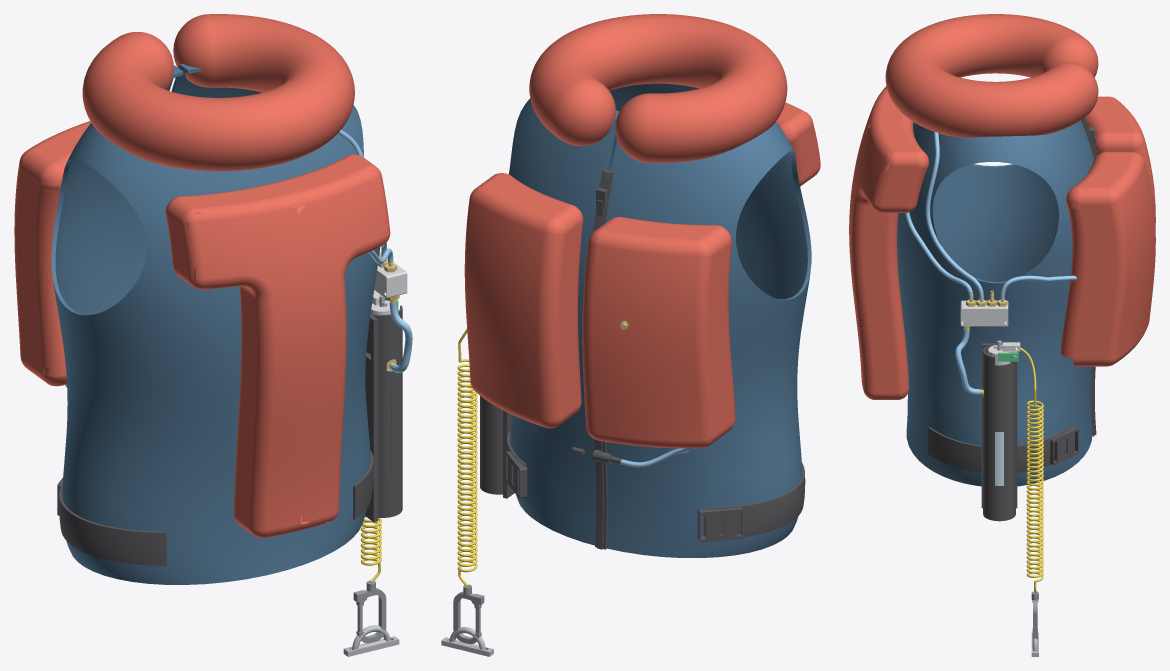
The model's file is KAVACH.glb.
3 renders of one model, left to right at view 1: azimuth 30°, elevation 25°; view 2: azimuth 150°, elevation 25°; view 3: azimuth 270°, elevation 25°, orthographic. The views are drawn at different scales.
Visible parts, largest first — view 1: KV-401_vest_carrier_shell-1, KV-405_bladder_spine_T-1, KV-402_bladder_neck_collar-1, KV-404_bladder_chest_L-1, KV-410_cartridge_holster-1, KV-408_side_strap_L-1, KV-502_snap_hook_QR-1, KV-501_lanyard_coiled-1, KV-201_manifold_block-1, KV-503_bike_D_ring_anchor-1, KV-407_side_strap_R-1, KV-301_hose_main_8x6_PU-1; view 2: KV-401_vest_carrier_shell-1, KV-404_bladder_chest_L-1, KV-402_bladder_neck_collar-1, KV-403_bladder_chest_R-1, KV-501_lanyard_coiled-1, KV-410_cartridge_holster-1, KV-408_side_strap_L-1, KV-405_bladder_spine_T-1, KV-406_zipper_YKK8-1, KV-409_side_release_buckle_R-2, KV-502_snap_hook_QR-1, KV-409_side_release_buckle_R-1 (+1 smaller); view 3: KV-401_vest_carrier_shell-1, KV-402_bladder_neck_collar-1, KV-403_bladder_chest_R-1, KV-405_bladder_spine_T-1, KV-410_cartridge_holster-1, KV-501_lanyard_coiled-1, KV-404_bladder_chest_L-1, KV-407_side_strap_R-1, KV-201_manifold_block-1, KV-305_hose_neck_6x4_PU-1, KV-409_side_release_buckle_R-1, KV-406_zipper_YKK8-1 (+4 smaller).
Part boxes in pixels (<box>): KV-401_vest_carrier_shell-1: <box>51,63,379,584</box>; KV-405_bladder_spine_T-1: <box>165,154,390,538</box>; KV-402_bladder_neck_collar-1: <box>82,14,354,171</box>; KV-404_bladder_chest_L-1: <box>14,121,91,386</box>; KV-410_cartridge_holster-1: <box>365,305,402,521</box>; KV-408_side_strap_L-1: <box>59,484,166,565</box>; KV-502_snap_hook_QR-1: <box>353,580,386,643</box>; KV-501_lanyard_coiled-1: <box>360,516,381,582</box>; KV-201_manifold_block-1: <box>374,252,407,298</box>; KV-503_bike_D_ring_anchor-1: <box>343,625,399,656</box>; KV-407_side_strap_R-1: <box>353,450,373,519</box>; KV-301_hose_main_8x6_PU-1: <box>389,302,412,372</box>; KV-401_vest_carrier_shell-1: <box>509,83,811,557</box>; KV-404_bladder_chest_L-1: <box>582,216,735,448</box>; KV-402_bladder_neck_collar-1: <box>529,14,787,163</box>; KV-403_bladder_chest_R-1: <box>464,173,583,428</box>; KV-501_lanyard_coiled-1: <box>457,329,477,586</box>; KV-410_cartridge_holster-1: <box>480,396,514,498</box>; KV-408_side_strap_L-1: <box>703,463,805,537</box>; KV-405_bladder_spine_T-1: <box>776,102,820,186</box>; KV-406_zipper_YKK8-1: <box>593,169,613,549</box>; KV-409_side_release_buckle_R-2: <box>697,507,743,542</box>; KV-502_snap_hook_QR-1: <box>453,584,484,644</box>; KV-409_side_release_buckle_R-1: <box>505,451,527,498</box>; KV-401_vest_carrier_shell-1: <box>897,120,1094,486</box>; KV-402_bladder_neck_collar-1: <box>885,14,1098,137</box>; KV-403_bladder_chest_R-1: <box>1060,152,1155,366</box>; KV-405_bladder_spine_T-1: <box>849,86,928,399</box>; KV-410_cartridge_holster-1: <box>981,343,1017,521</box>; KV-501_lanyard_coiled-1: <box>1017,347,1043,593</box>; KV-404_bladder_chest_L-1: <box>1085,96,1155,224</box>; KV-407_side_strap_R-1: <box>927,427,1071,472</box>; KV-201_manifold_block-1: <box>960,300,1008,326</box>; KV-305_hose_neck_6x4_PU-1: <box>925,131,983,298</box>; KV-409_side_release_buckle_R-1: <box>1049,427,1078,465</box>; KV-406_zipper_YKK8-1: <box>1081,117,1097,436</box>.
Bounding box in the file's own units: 0.4407 × 0.78 × 0.412.
